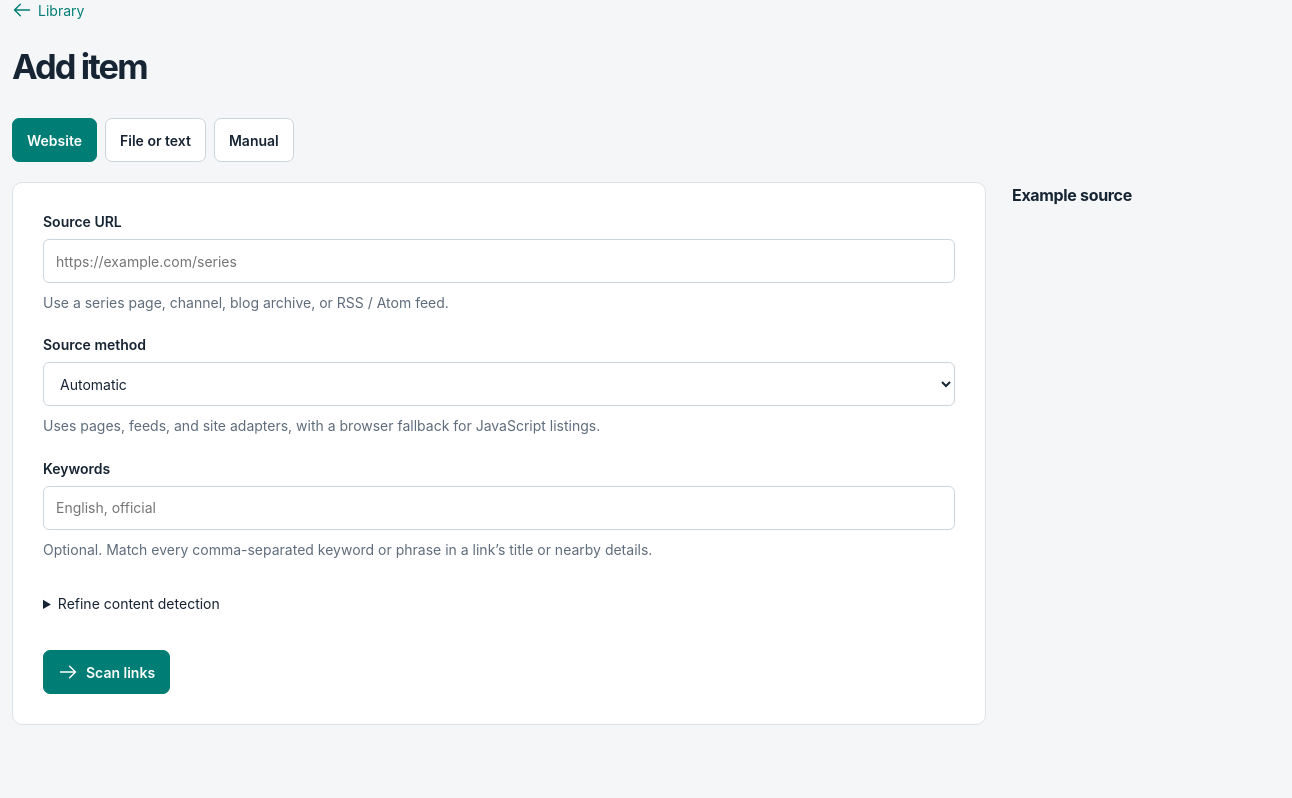
missing keys explain the fallback without an alert and failed detection does not block Scan
This screenshot has width=1292, height=798.
Type "https://youtube.com/@alice" into the field labelled "Source URL" at x=499, y=261, box top-left (43, 239), bottom-right (955, 283)
Wait 400 ms
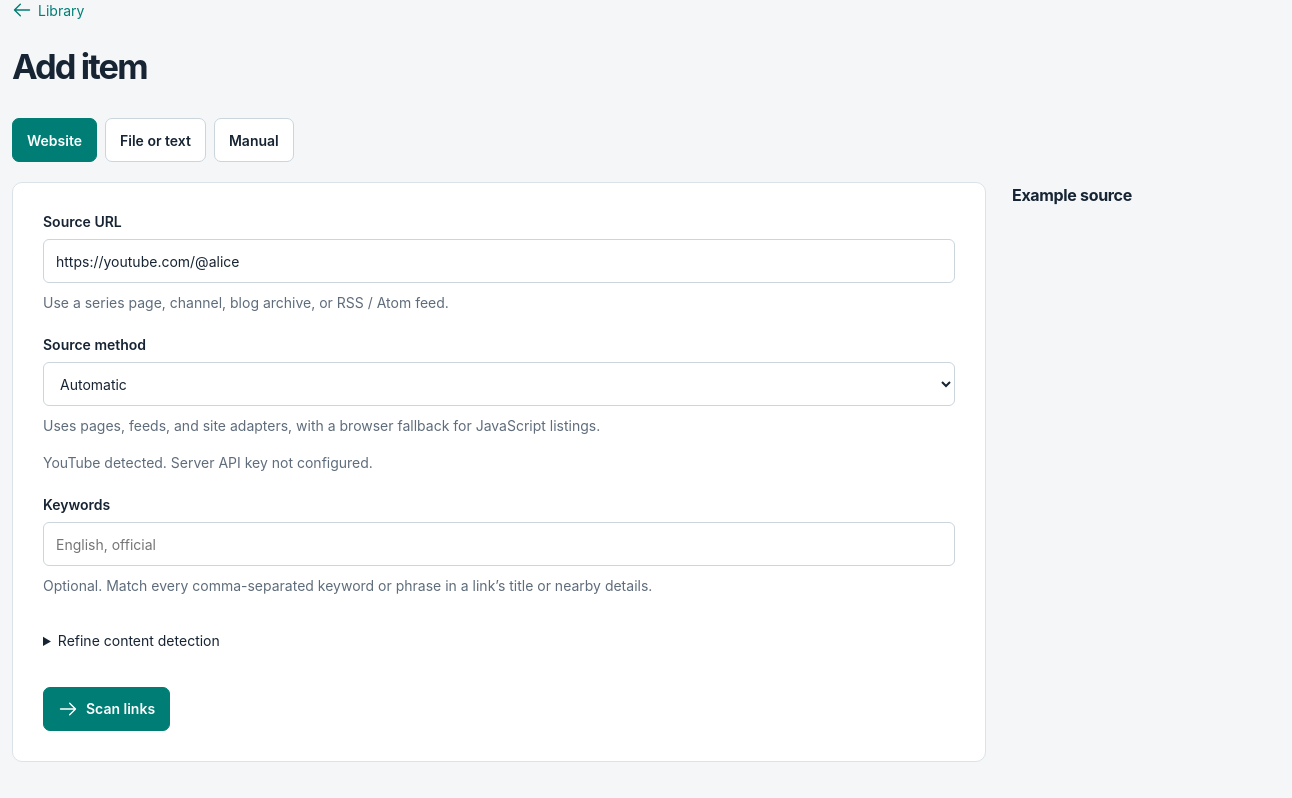
Expected: the text "YouTube detected. Server API key not configured." is shown, top-left (43, 454), bottom-right (373, 471)
Replace the text in the field labelled "Source URL" with "https://example.wordpress.com/" at x=499, y=261, box top-left (43, 239), bottom-right (955, 283)
Wait 400 ms
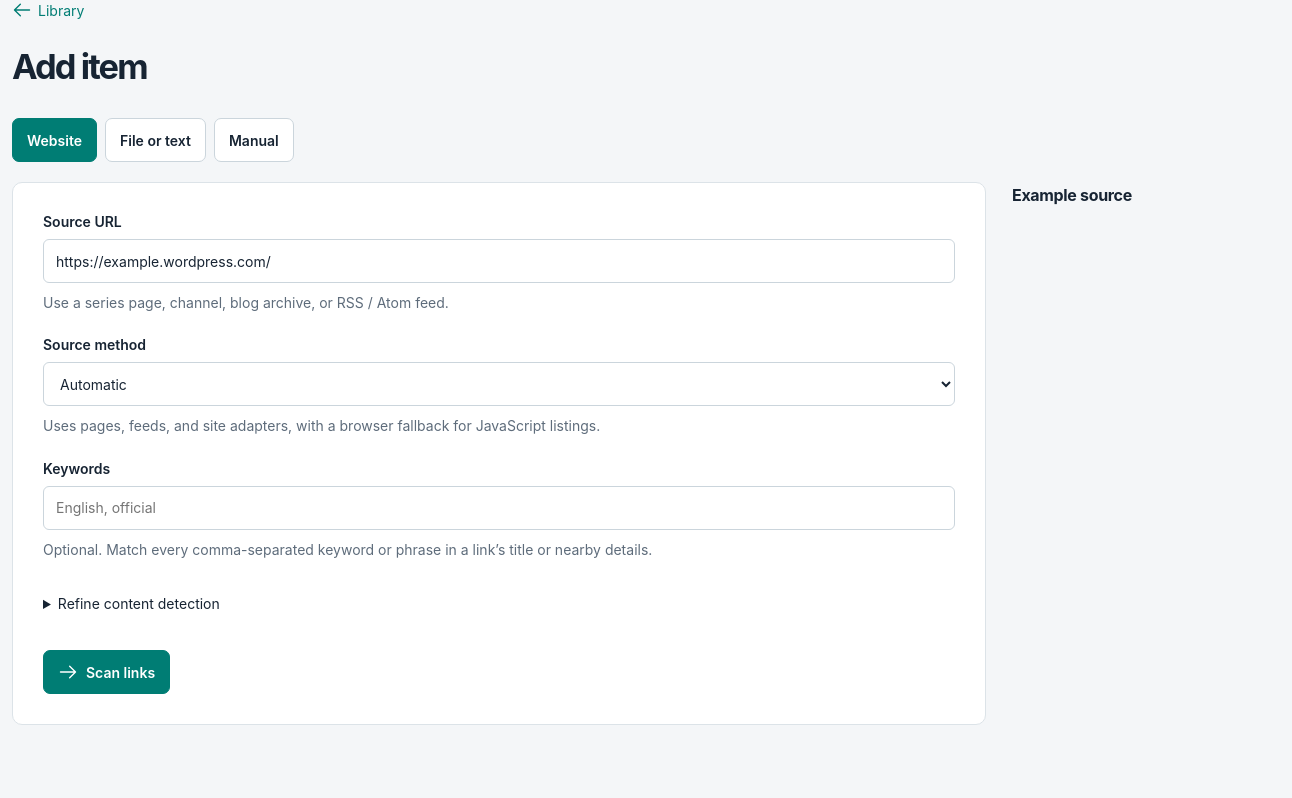
Click the button "Scan links" at x=107, y=672, box top-left (43, 650), bottom-right (170, 694)
(page scrolled)
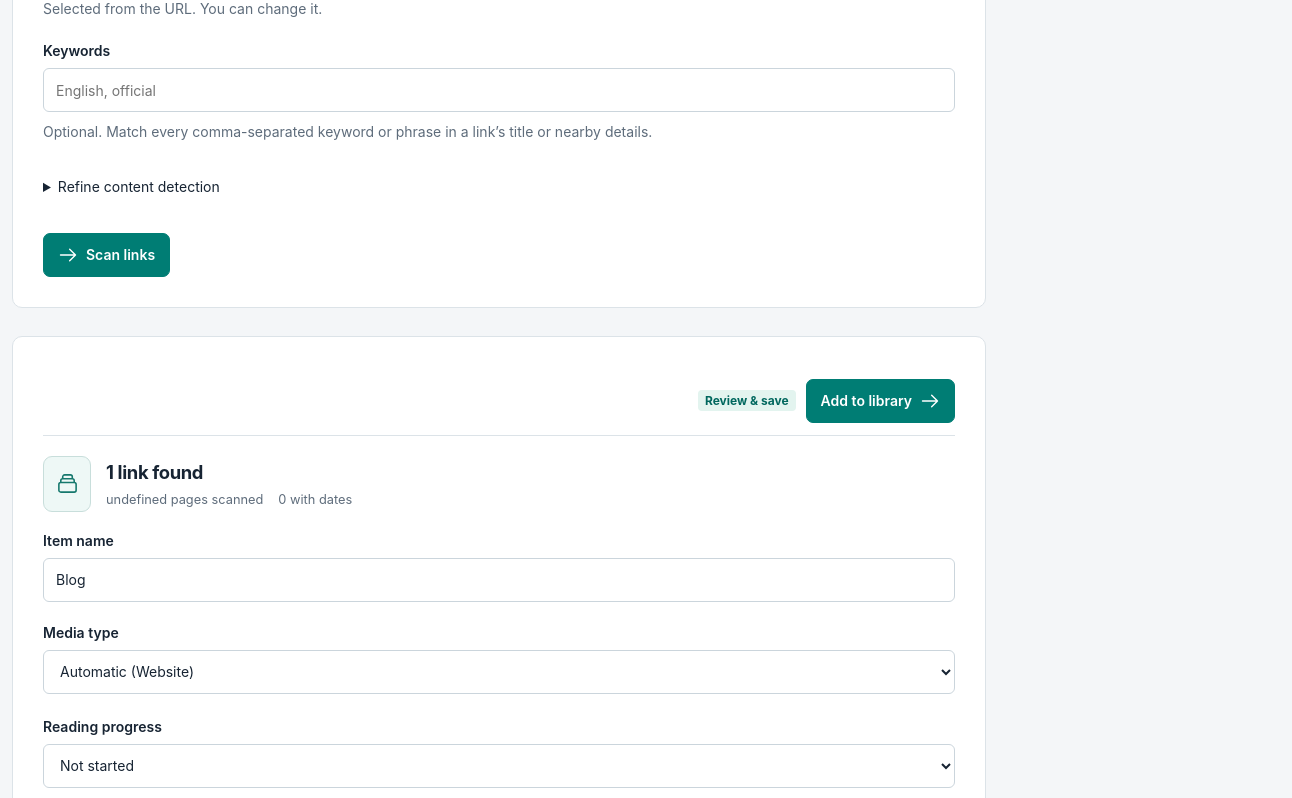
Expected: the button "Add to library" is shown, top-left (806, 379), bottom-right (955, 423)
